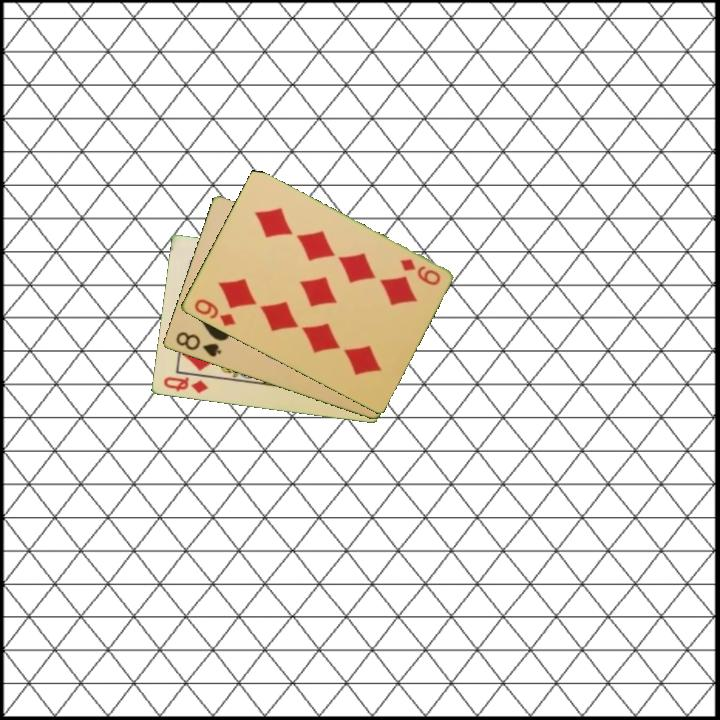8s: (172, 328, 224, 360)
9d: (190, 295, 239, 329), (396, 255, 443, 289)
Qd: (160, 373, 211, 396)
